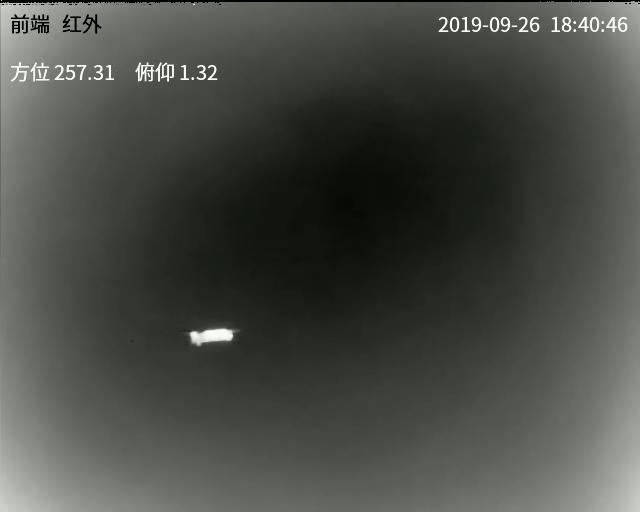uav: (184, 326, 241, 347)
